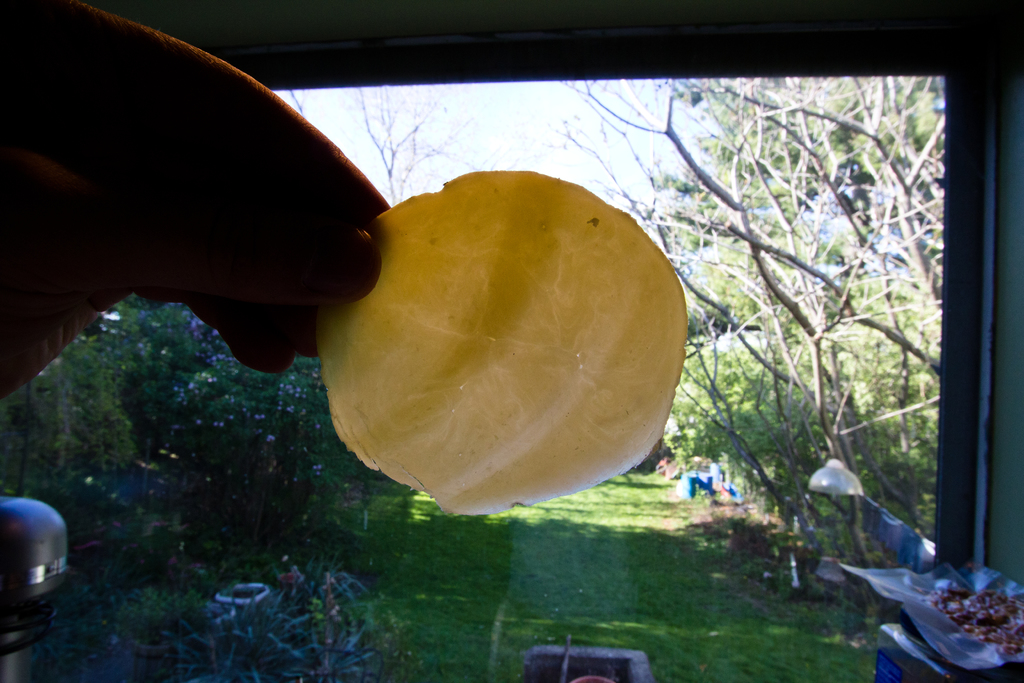Tree: (566, 74, 944, 578)
